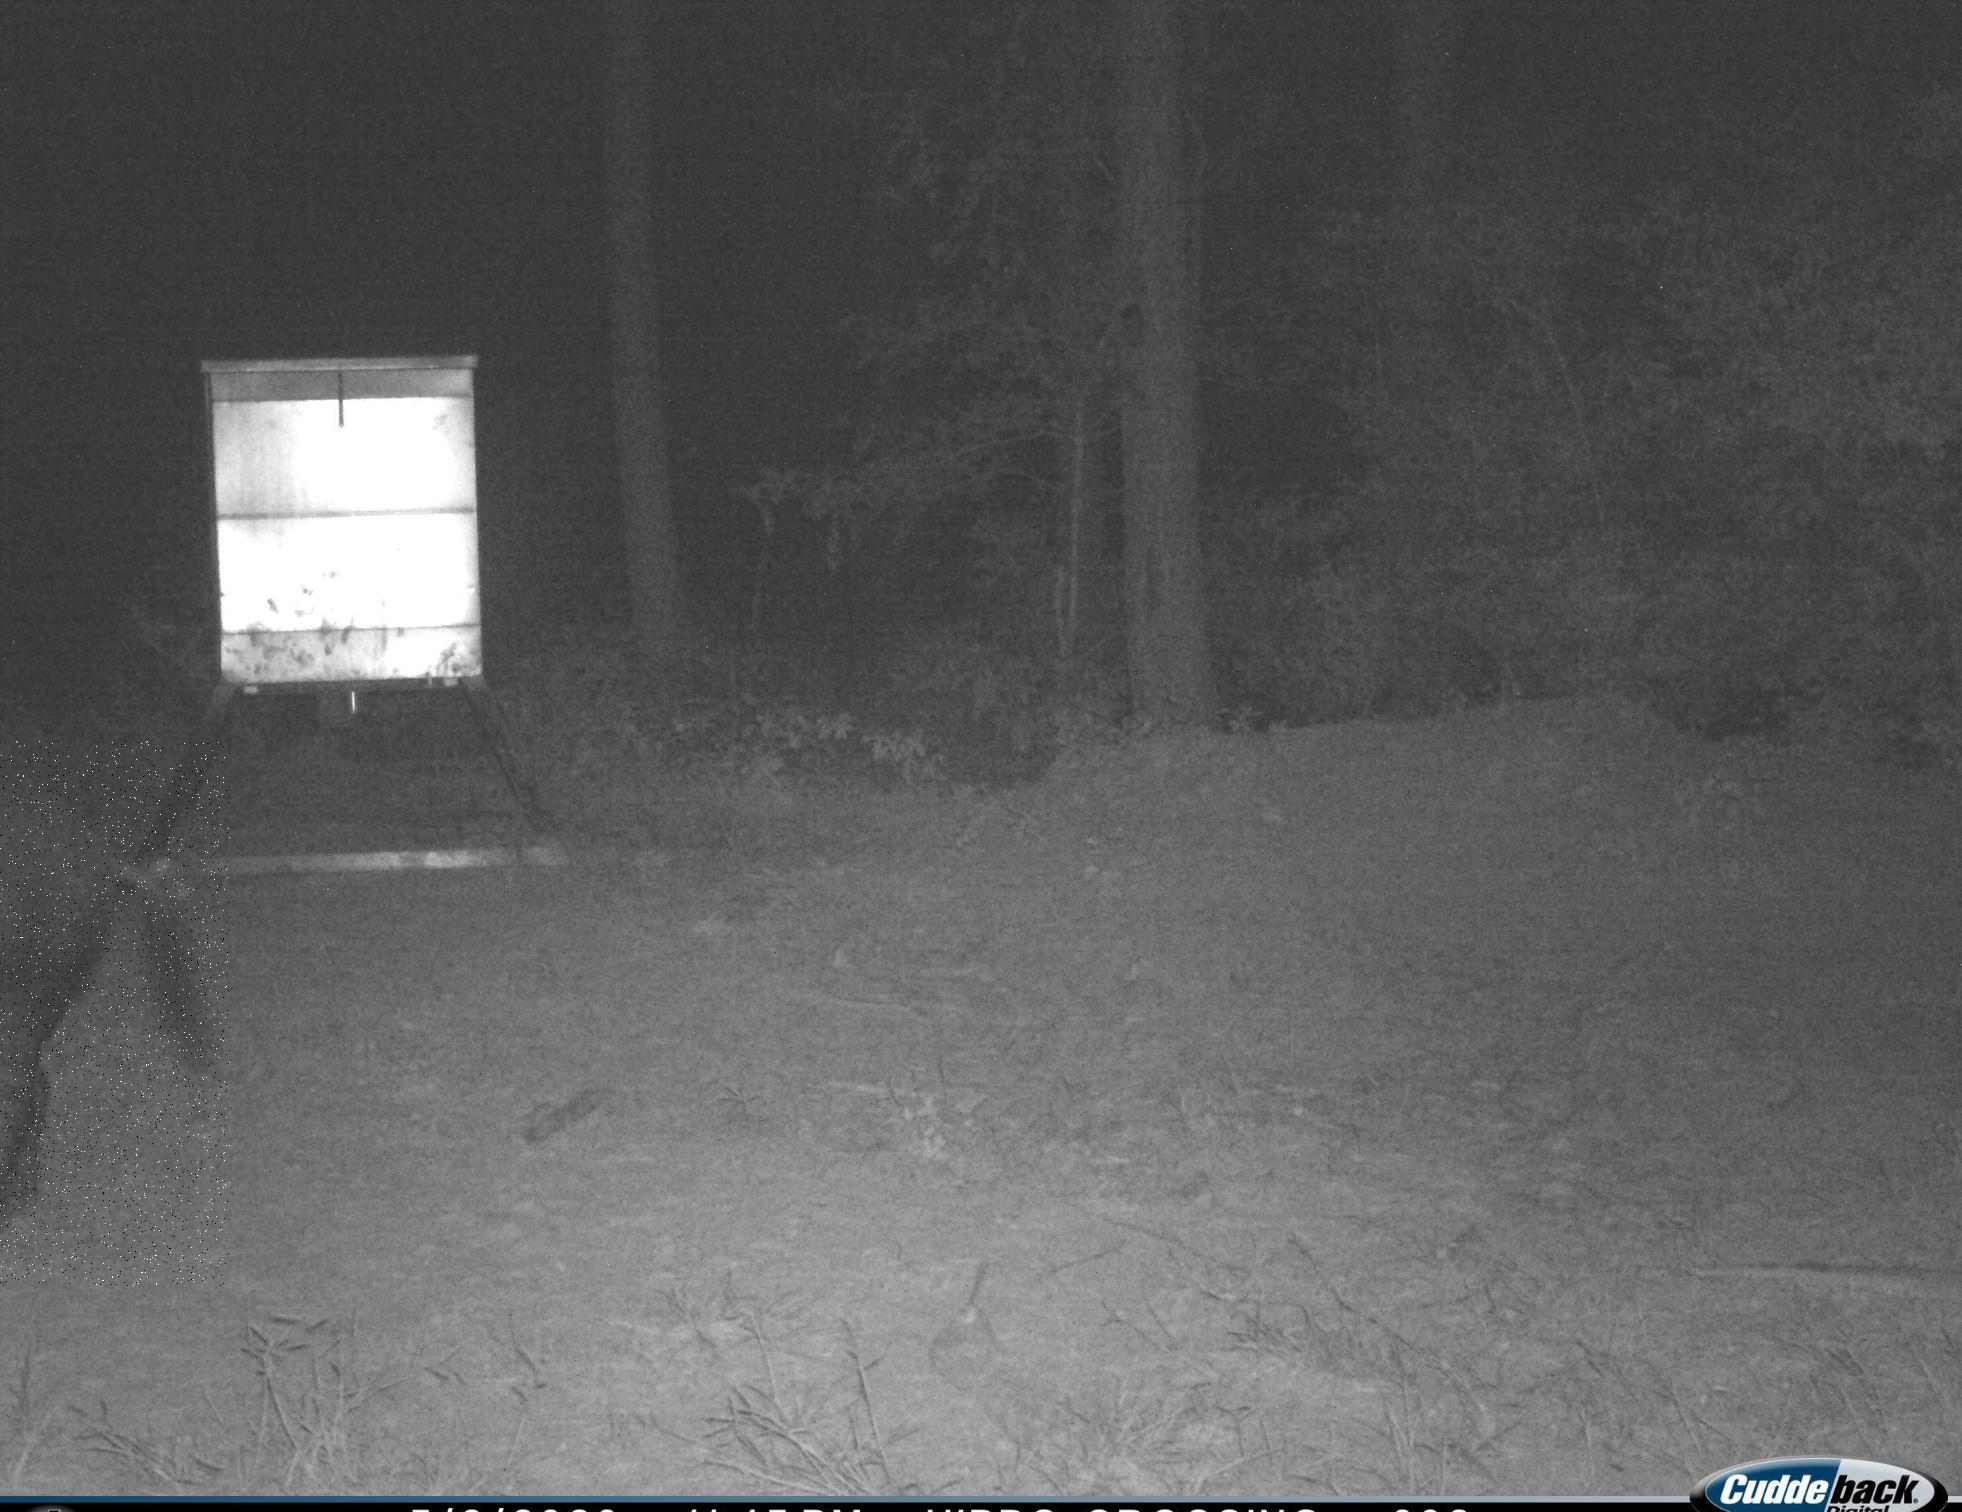Hog: (0, 742, 230, 1286)
